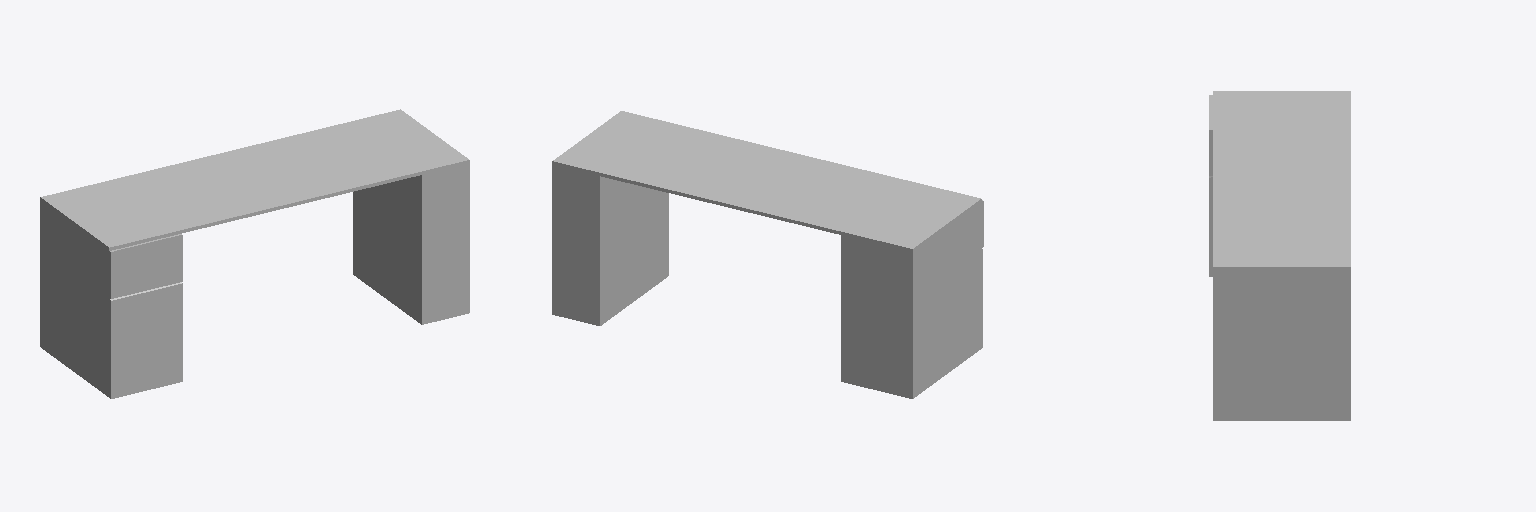
Rendered from Bureau.obj.
3 views of the same model, side by side, from view 1: azimuth 30°, elevation 25°; view 2: azimuth 150°, elevation 25°; view 3: azimuth 270°, elevation 25° (orthographic).
Parts seen in each view (by area): view 1: Cube; view 2: Cube; view 3: Cube.
Boxes of the visible parts, box(x1,y1,x2,y2) form: Cube: box(40, 109, 469, 398); Cube: box(552, 111, 983, 398); Cube: box(1209, 91, 1350, 420).
Bounding box in the file's own units: 15.07 × 6.14 × 5.14.